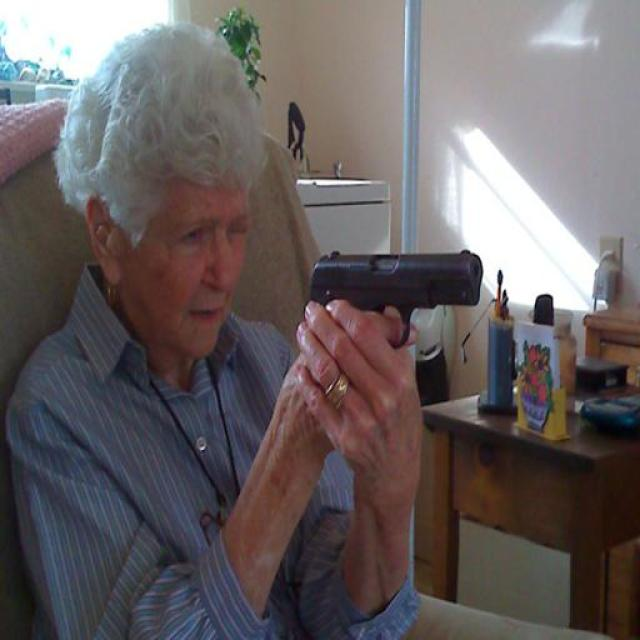pistol: (296, 247, 485, 390)
